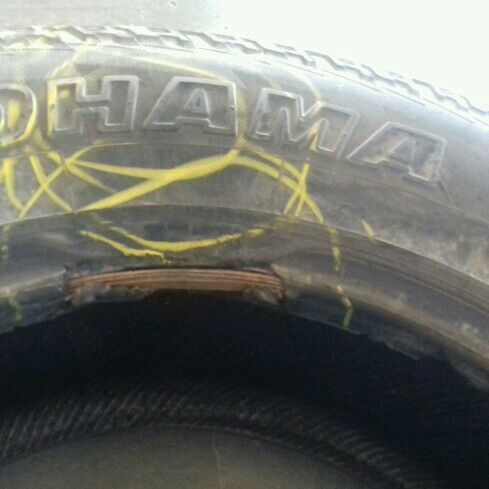bead_damage: (41, 256, 290, 325), (352, 325, 488, 398)
